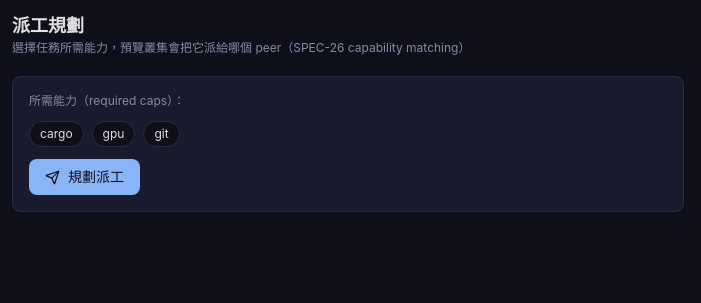
Scenario: DispatchPlanner screen › does NOT crash when planDispatch returns a partial plan (null fallbackPeerIds)
# Primary interaction: pick a required cap, then run the planner.
Click the button "cargo" at (56, 134), box [29,121,84,147]
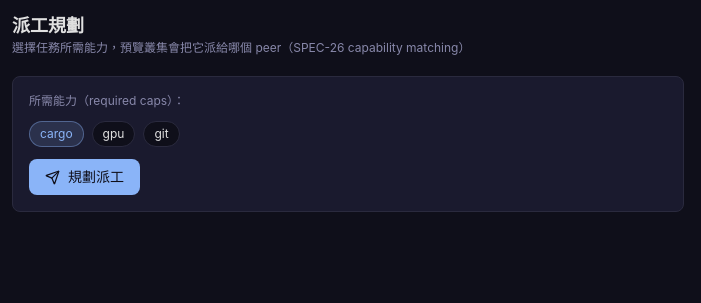
Click the button "規劃派工" at (84, 177), box [29,159,140,195]
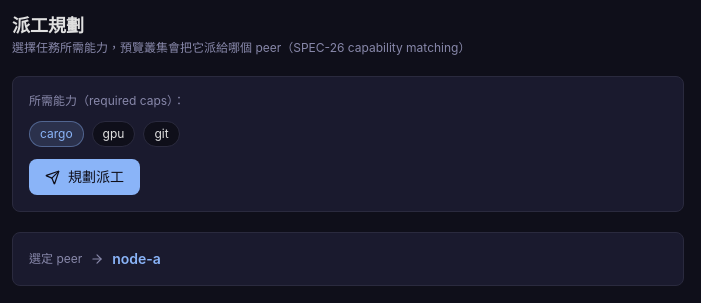
Now the text "node-a" is shown, box [112,249,161,269]
